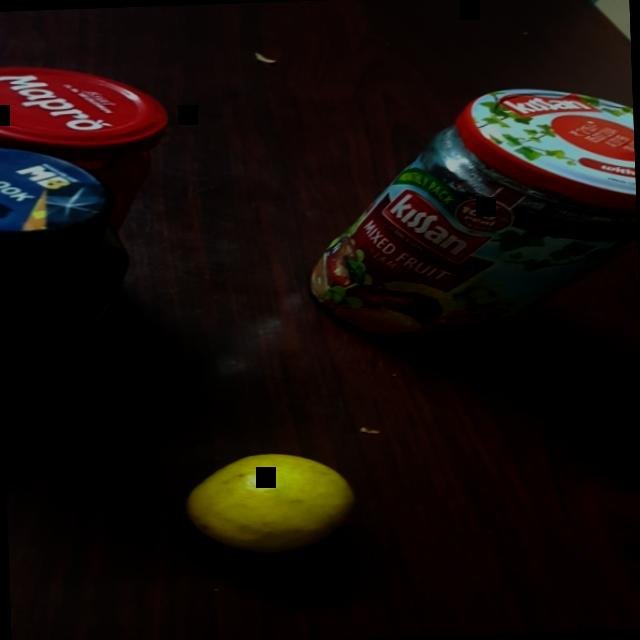lemon: (181, 445, 367, 563)
